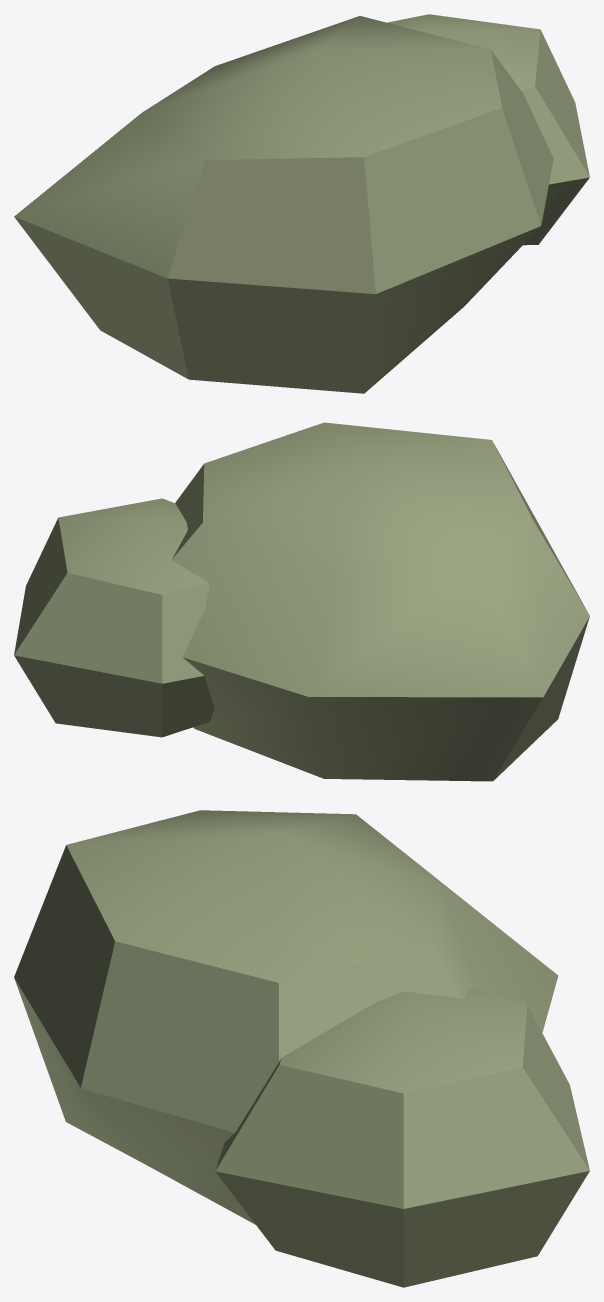
The model's file is shrub.glb.
3 renders of one model, top to bottom at view 1: azimuth 30°, elevation 25°; view 2: azimuth 150°, elevation 25°; view 3: azimuth 270°, elevation 25°, orthographic. The views are drawn at different scales.
Visible parts, largest first — view 1: Crown; view 2: Crown; view 3: Crown.
Boxes of the visible parts, x1,y1,x2,y2 form: Crown: (14, 14, 589, 393); Crown: (14, 422, 589, 781); Crown: (14, 810, 589, 1287).
Size of the model in its own units: 3.03 by 1.54 by 2.31.
